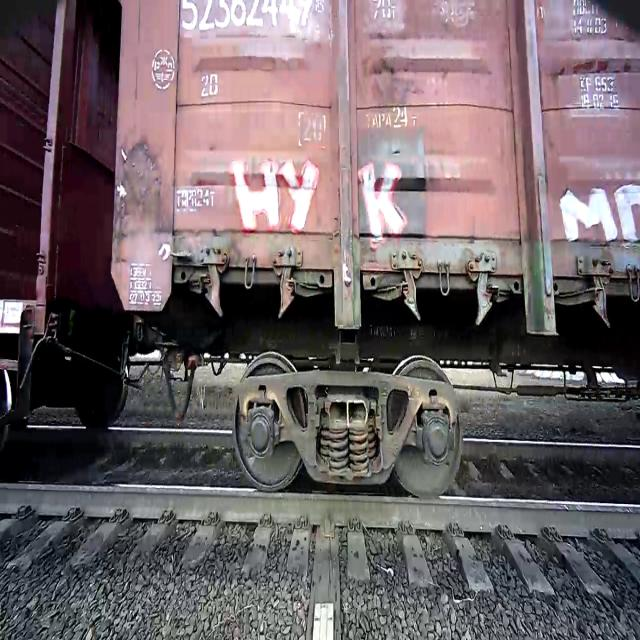gondola: (104, 0, 640, 516)
